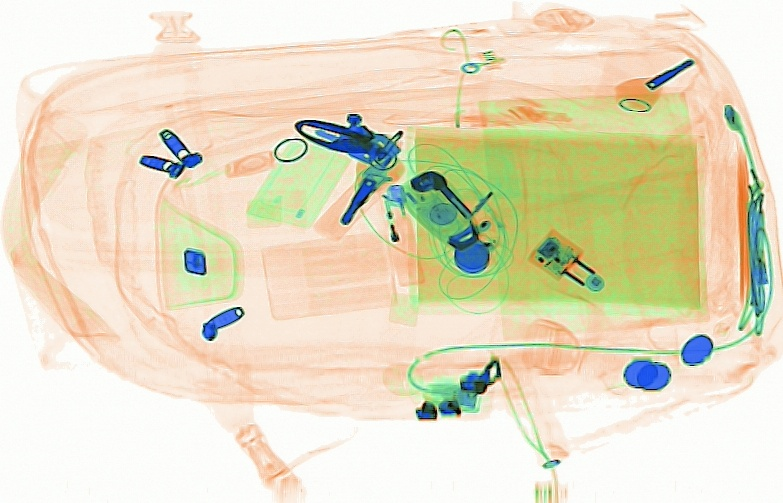lighter: (377, 182, 426, 287)
